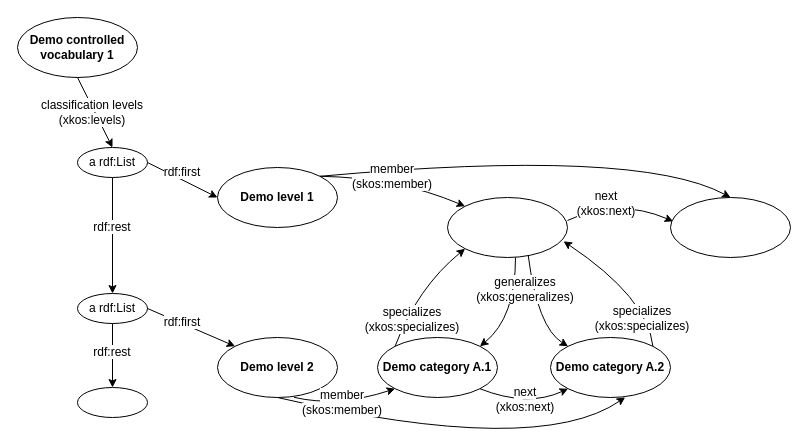
This 808x446 diagram has some shape labels left out. Each missing label, with the centre of its shape:
<rdf:nil>: pixel 112 402
Demo category A: pixel 507 227
Demo category B: pixel 730 227
